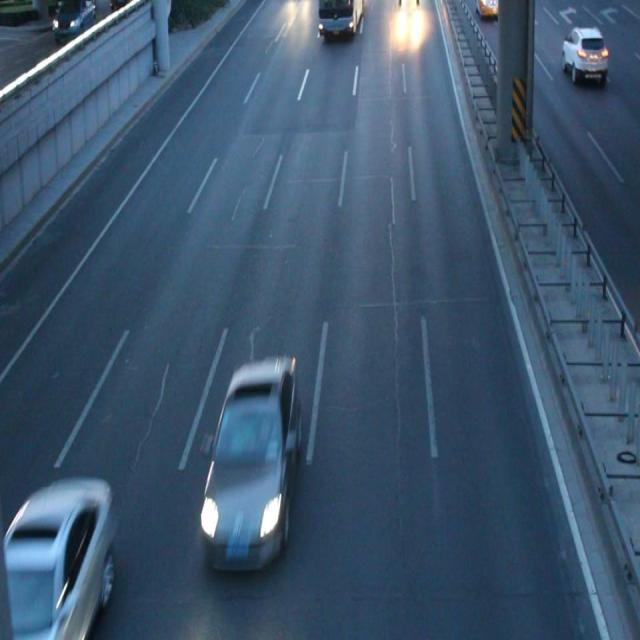car: (202, 356, 294, 560), (0, 477, 113, 640), (562, 28, 607, 83), (474, 1, 500, 20)
van: (316, 1, 358, 37)
